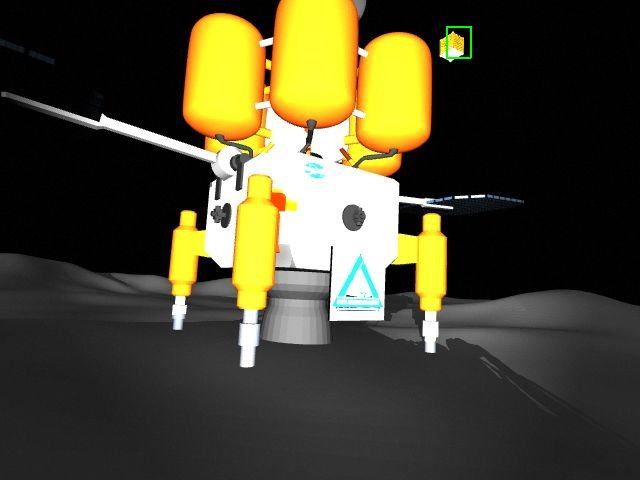basemarker: (331, 252, 384, 312)
